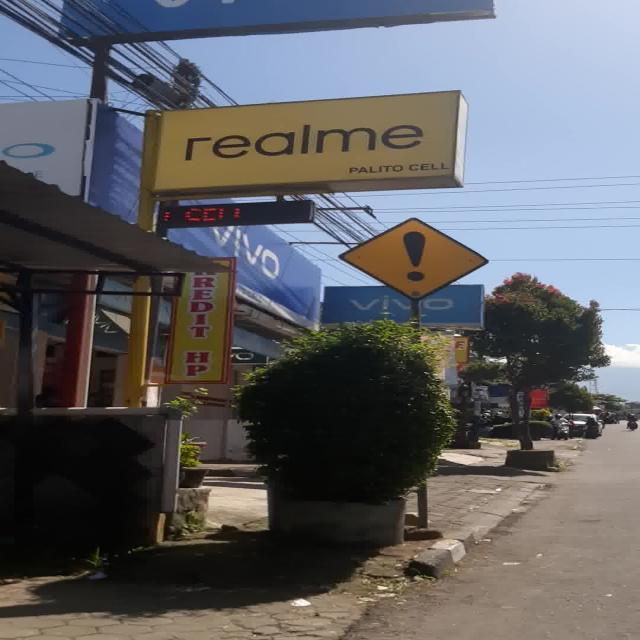Hati-Hati: (338, 217, 490, 300)
